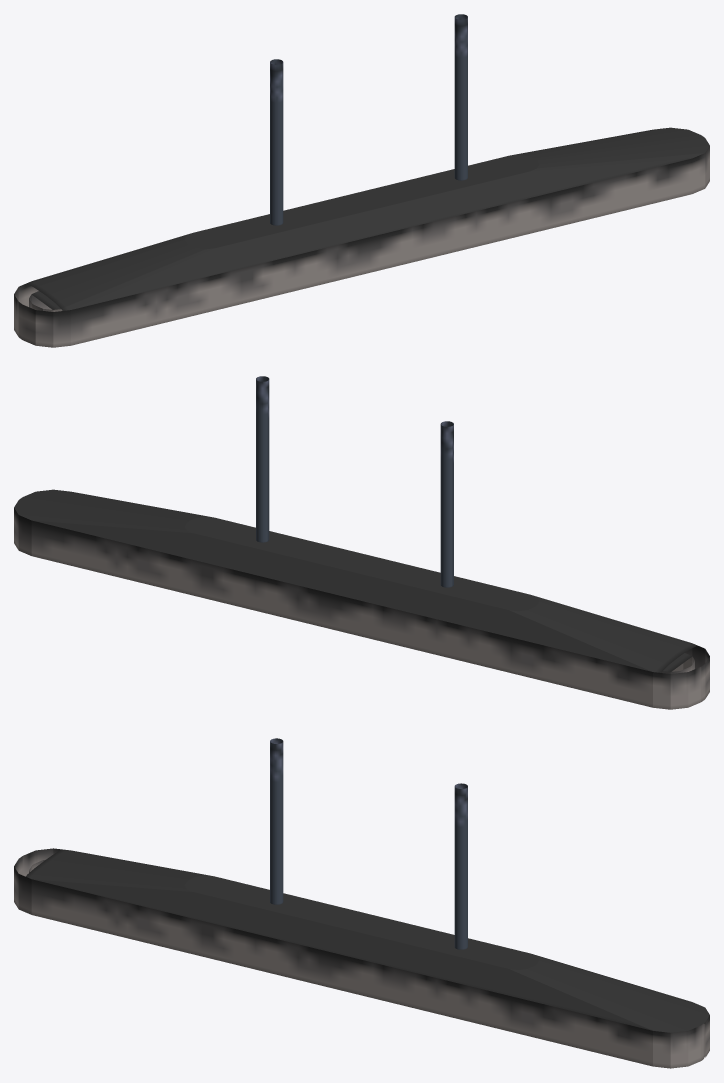
Rendered from ceiling_lamp_TipoA.fbx.
The picture shows the model from 3 angles, top to bottom: view 1: azimuth 30°, elevation 25°; view 2: azimuth 150°, elevation 25°; view 3: azimuth 330°, elevation 25°; orthographic projection.
Visible parts, largest first — view 1: Cube.029, Cylinder.001; view 2: Cube.029, Cylinder.001; view 3: Cube.029, Cylinder.001.
Part boxes in pixels (x1,y1,x2,y2): Cube.029: (14, 127, 709, 347); Cylinder.001: (270, 14, 467, 225); Cube.029: (14, 489, 709, 709); Cylinder.001: (256, 376, 453, 587); Cube.029: (14, 848, 709, 1068); Cylinder.001: (270, 738, 467, 949).
Size of the model in its own units: 400 by 129 by 40.
